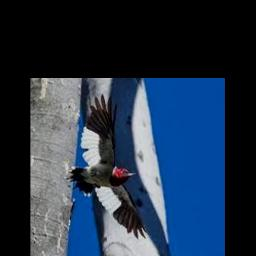Woodpecker: (64, 94, 147, 240)
